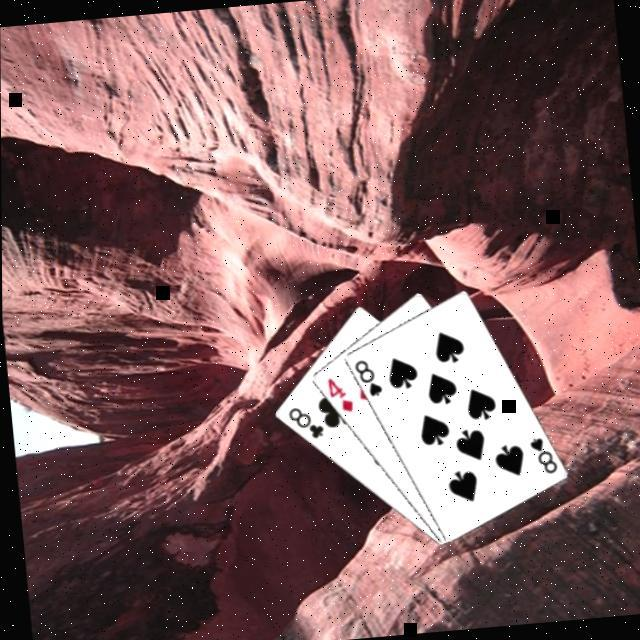4D: (320, 374, 354, 418)
8C: (282, 404, 324, 445)
8S: (522, 434, 558, 480), (348, 357, 382, 402)
